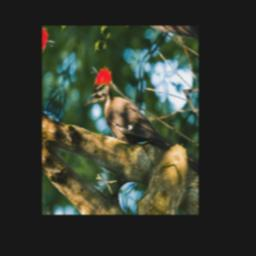Woodpecker: (78, 62, 183, 174)
